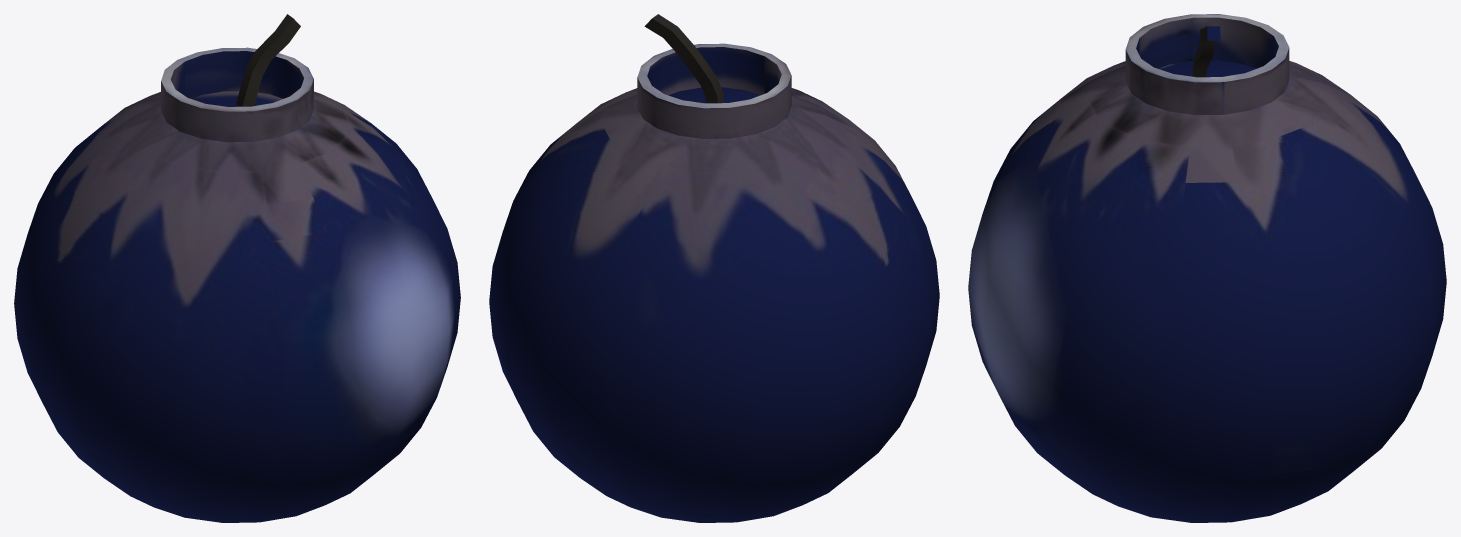
File: bomb.fbx
The picture shows the model from 3 angles, left to right: view 1: azimuth 30°, elevation 25°; view 2: azimuth 150°, elevation 25°; view 3: azimuth 270°, elevation 25°; orthographic projection. The views are drawn at different scales.
Visible parts, largest first — view 1: bomb; view 2: bomb; view 3: bomb.
Part boxes in pixels (<box>): bomb: <box>14,14,460,522</box>; bomb: <box>489,14,939,522</box>; bomb: <box>968,14,1446,522</box>.
Size of the model in its own units: 2592 by 3046 by 2618.
Materials: 1 (1 with a texture image).
